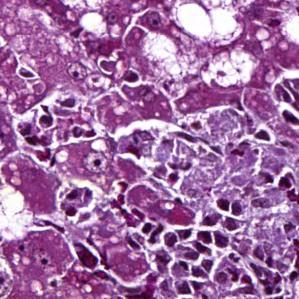ballooning: (166, 1, 249, 48), (194, 44, 263, 96), (139, 30, 196, 86)
